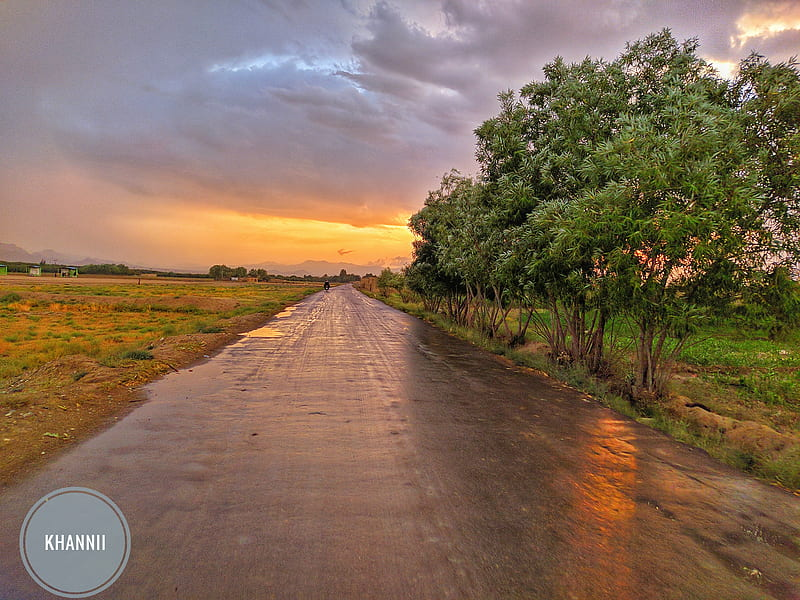straightRoad: (213, 300, 494, 600)
